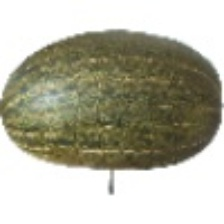honeydew: (14, 50, 188, 207)
